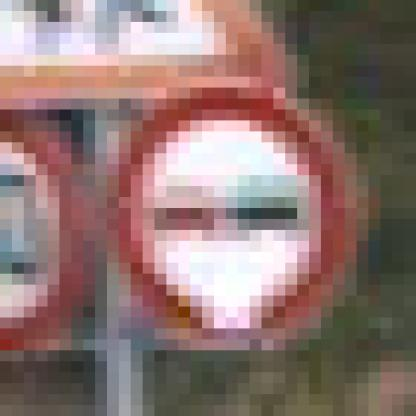No Overtaking: (72, 56, 358, 351)
